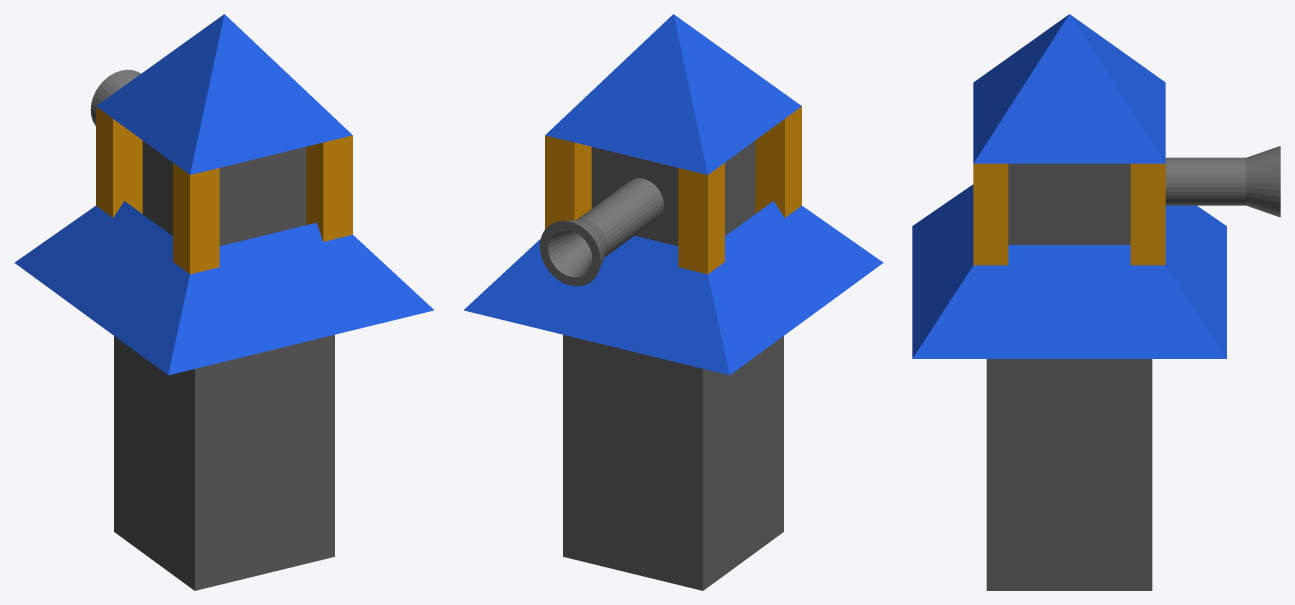
The model's file is Longtower.fbx.
3 views of the same model, side by side, from view 1: azimuth 30°, elevation 25°; view 2: azimuth 150°, elevation 25°; view 3: azimuth 270°, elevation 25° (orthographic). The views are drawn at different scales.
Visible parts, largest first — view 1: Cube, Cylinder; view 2: Cube, Cylinder; view 3: Cube, Cylinder.
Boxes of the visible parts, x1,y1,x2,y2 form: Cube: (14, 14, 433, 590); Cylinder: (90, 69, 140, 125); Cube: (464, 14, 883, 590); Cylinder: (539, 178, 663, 286); Cube: (912, 14, 1226, 590); Cylinder: (1165, 146, 1280, 217).
Size of the model in its own units: 380 by 722 by 445.
